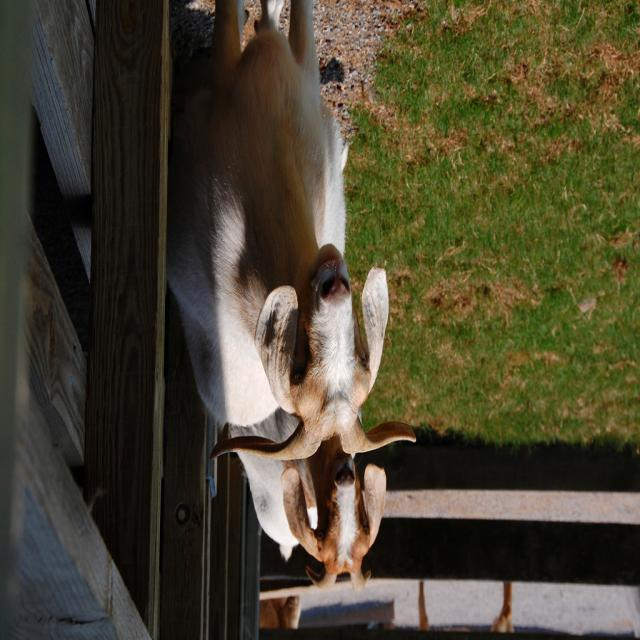Goat: (165, 2, 416, 466), (227, 408, 387, 593)
